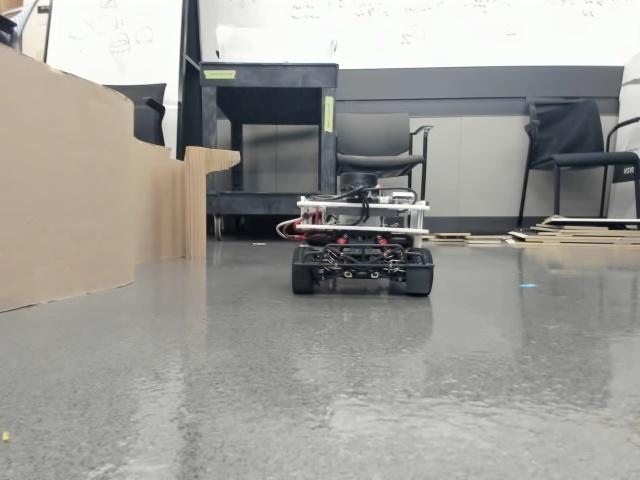Car: (278, 170, 434, 298)
